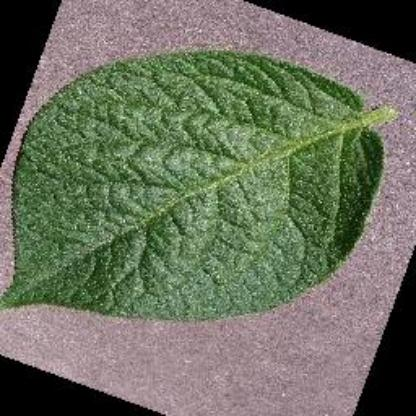Healthy-plant: (4, 43, 408, 322)
